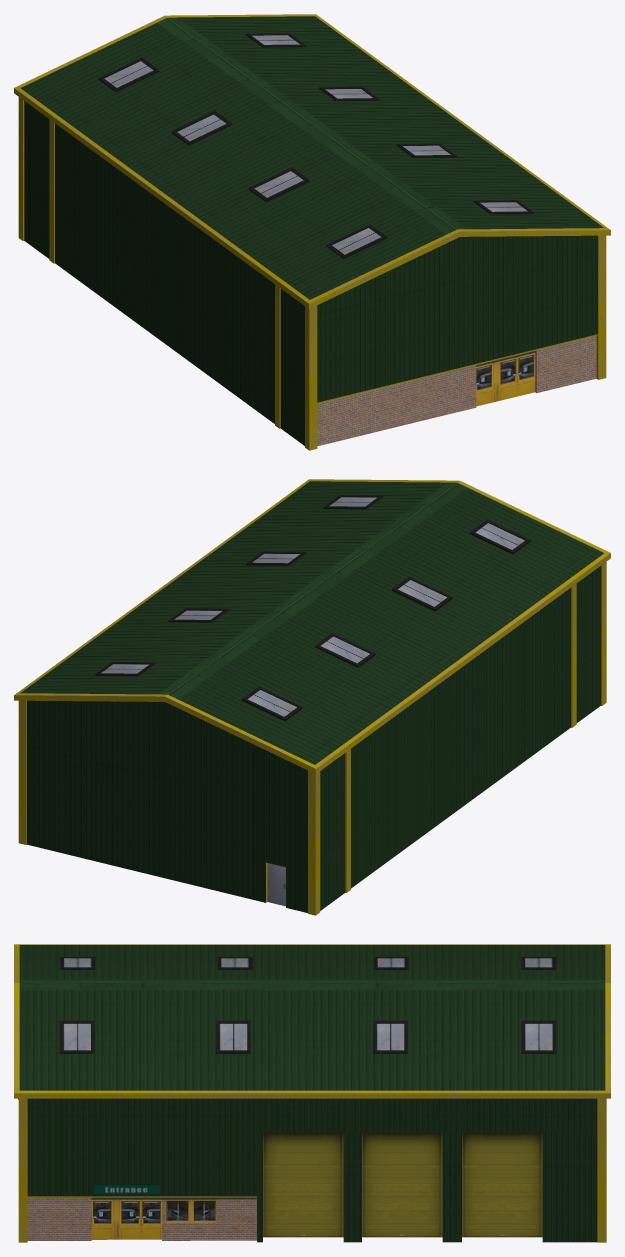
Rendered from industrialunitg5.FBX.
The picture shows the model from 3 angles, top to bottom: view 1: azimuth 30°, elevation 25°; view 2: azimuth 150°, elevation 25°; view 3: azimuth 270°, elevation 25°; orthographic projection.
Parts seen in each view (by area): view 1: Box001; view 2: Box001; view 3: Box001.
Part boxes in pixels (bbox=[...]): Box001: bbox=[14, 14, 610, 450]; Box001: bbox=[14, 479, 610, 915]; Box001: bbox=[14, 944, 610, 1242].
Bounding box in the file's own units: 1921 × 1121 × 3250.
1 material, 1 textured.
